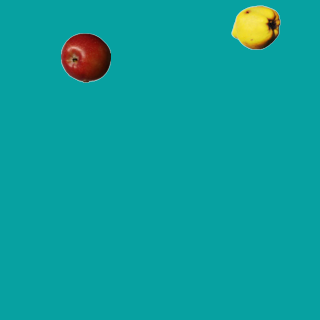Apple Braeburn: (60, 32, 110, 82)
Quince: (230, 2, 280, 52)
